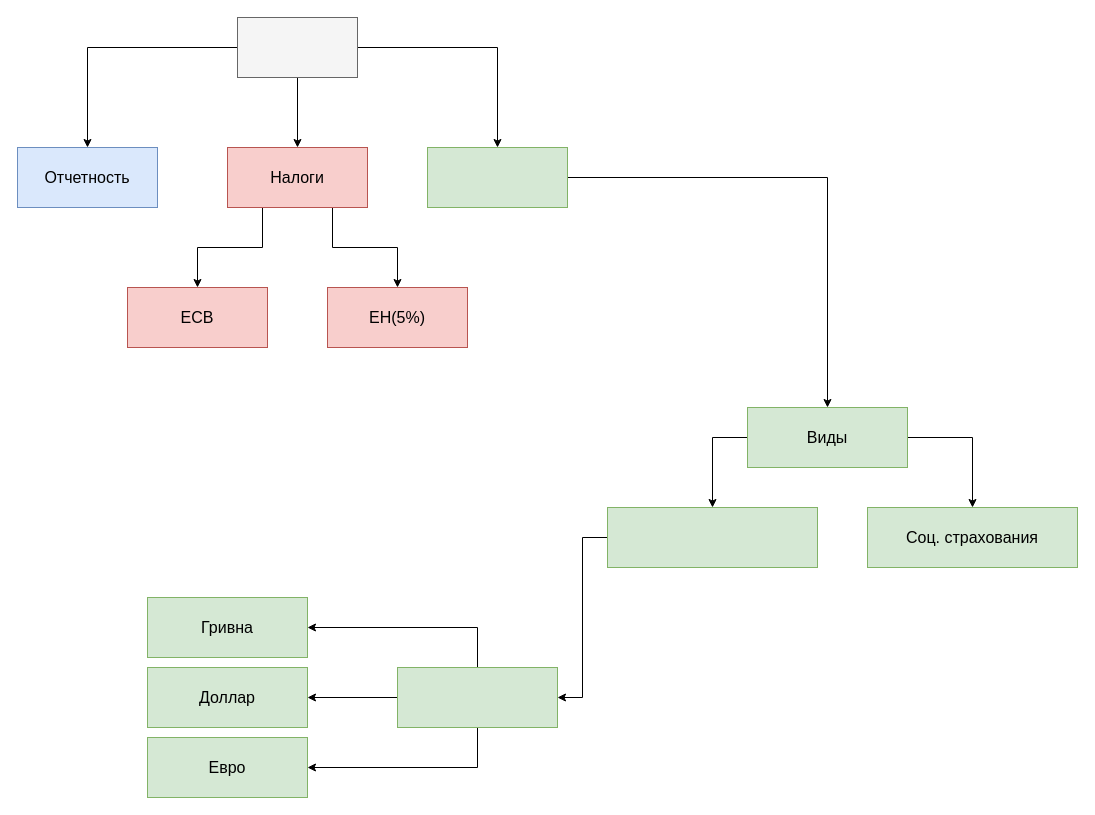
The diagram is 1095 pixels wide and 815 high, and some of its shapes have lost their labels. Each missing label, with the centre of its shape:
"Для валюты" belongs at pixel 477 697.
"Счета" belongs at pixel 497 177.
"Текущий(поточный)" belongs at pixel 712 537.
"ФОП" belongs at pixel 297 47.
